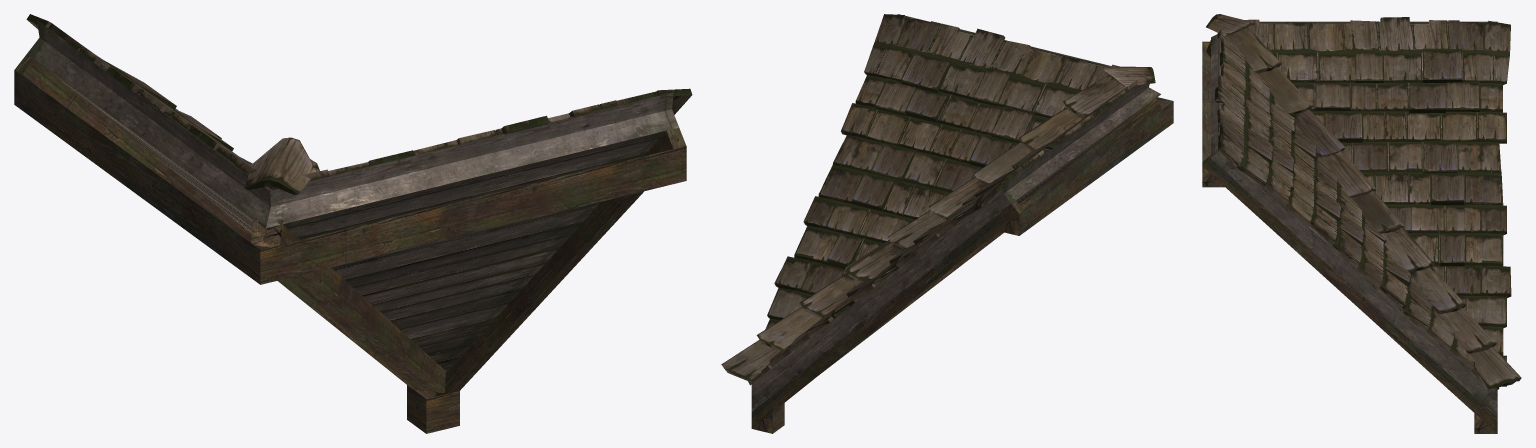
The picture shows the model from 3 angles, left to right: view 1: azimuth 30°, elevation 25°; view 2: azimuth 150°, elevation 25°; view 3: azimuth 270°, elevation 25°; orthographic projection. The views are drawn at different scales.
Visible parts, largest first — view 1: SM_BB_T1_Roof_Large_Valley_Diagonal_LOD0; view 2: SM_BB_T1_Roof_Large_Valley_Diagonal_LOD0; view 3: SM_BB_T1_Roof_Large_Valley_Diagonal_LOD0.
Part boxes in pixels (x1=…): SM_BB_T1_Roof_Large_Valley_Diagonal_LOD0: x1=14, y1=14, x2=692, y2=433; SM_BB_T1_Roof_Large_Valley_Diagonal_LOD0: x1=721, y1=14, x2=1173, y2=433; SM_BB_T1_Roof_Large_Valley_Diagonal_LOD0: x1=1202, y1=14, x2=1521, y2=433.
Size of the model in its own units: 3.44 by 3.65 by 3.45.
4 materials, 3 textured.
